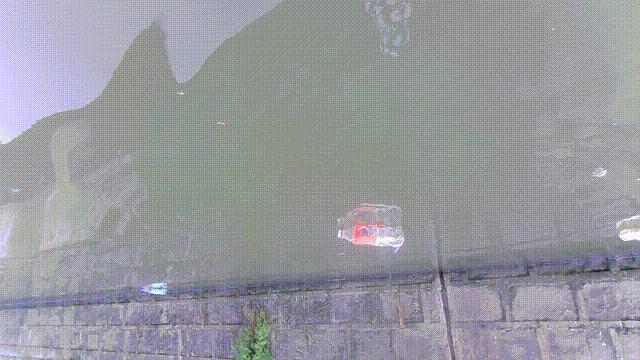Plastic: (336, 222, 405, 247), (604, 215, 640, 242), (138, 283, 170, 295)
